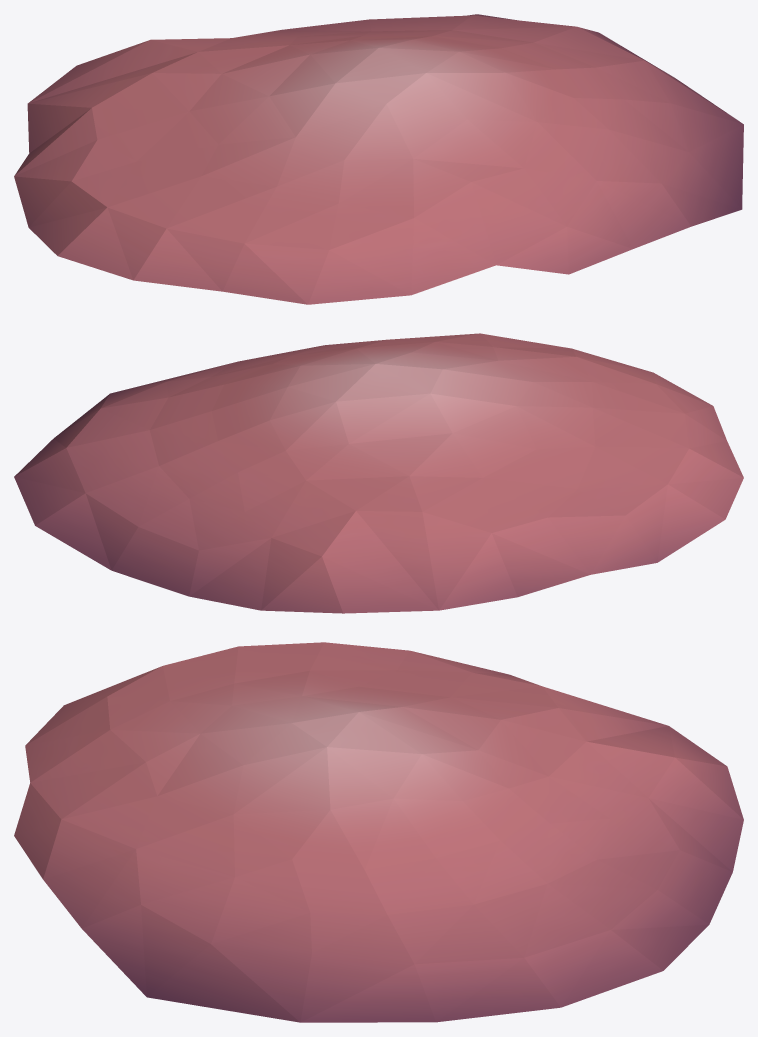
The model's file is Top_04_03.fbx.
3 views of the same model, one above another, from view 1: azimuth 30°, elevation 25°; view 2: azimuth 150°, elevation 25°; view 3: azimuth 270°, elevation 25° (orthographic). The views are drawn at different scales.
Visible parts, largest first — view 1: Top_04; view 2: Top_04; view 3: Top_04.
Boxes of the visible parts, x1,y1,x2,y2 form: Top_04: [14, 14, 743, 304]; Top_04: [14, 333, 743, 613]; Top_04: [14, 642, 743, 1022].
Bounding box in the file's own units: 1.97 × 0.36 × 1.76.
